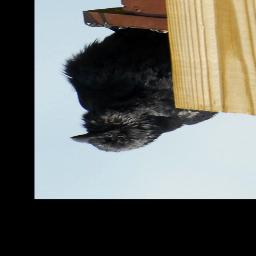Crow: (59, 23, 216, 153)
